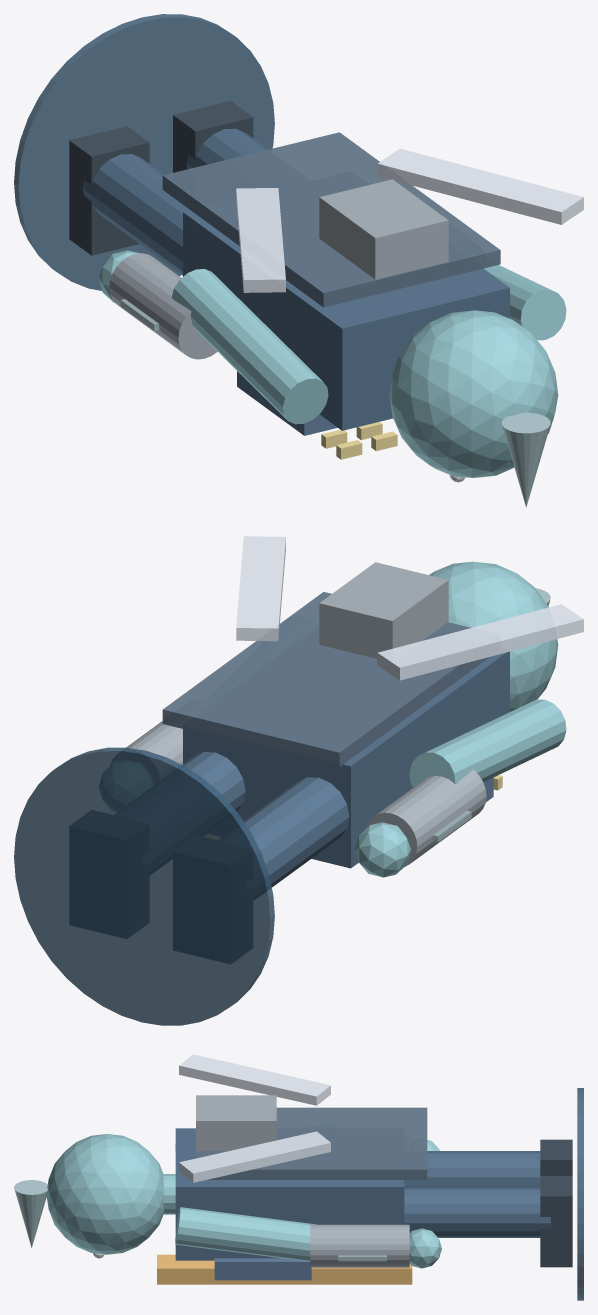
Rendered from SW_NPC_039_nima_cinderrig.glb.
The picture shows the model from 3 angles, top to bottom: view 1: azimuth 30°, elevation 25°; view 2: azimuth 150°, elevation 25°; view 3: azimuth 270°, elevation 25°; orthographic projection. The views are drawn at different scales.
Visible parts, largest first — view 1: round_base_plate, torso_uniform, head, storm_cloak, left_upper_arm, wingpack_core, left_leg, right_wing_rig, left_forearm_gauntlet, left_boot, left_wing_rig, right_upper_arm (+4 smaller); view 2: round_base_plate, storm_cloak, torso_uniform, wingpack_core, head, left_upper_arm, left_leg, left_wing_rig, left_forearm_gauntlet, right_wing_rig, left_hand, right_leg (+1 smaller); view 3: head, torso_uniform, storm_cloak, right_leg, right_upper_arm, left_leg, right_forearm_gauntlet, wingpack_core, rank_sash, right_wing_rig, left_wing_rig, right_boot (+7 smaller).
Part boxes in pixels (x1,y1,x2,y2): round_base_plate: (14, 14, 274, 290); torso_uniform: (183, 210, 509, 430); head: (389, 310, 558, 477); storm_cloak: (162, 132, 500, 307); left_upper_arm: (171, 269, 328, 424); wingpack_core: (319, 179, 448, 279); left_leg: (82, 154, 190, 275); right_wing_rig: (377, 148, 583, 224); left_forearm_gauntlet: (109, 253, 217, 359); left_boot: (69, 126, 149, 255); left_wing_rig: (236, 188, 285, 292); right_upper_arm: (484, 265, 566, 340); round_base_plate: (14, 747, 274, 1025); storm_cloak: (162, 592, 489, 766); torso_uniform: (183, 651, 509, 868); wingpack_core: (319, 562, 448, 658); head: (429, 561, 558, 711); left_upper_arm: (409, 699, 566, 787); left_leg: (243, 777, 349, 887); left_wing_rig: (377, 604, 583, 680); left_forearm_gauntlet: (366, 769, 486, 867); right_wing_rig: (236, 536, 285, 641); left_hand: (355, 822, 410, 877); right_leg: (182, 752, 245, 811); head: (46, 1134, 164, 1254); torso_uniform: (175, 1128, 404, 1260); storm_cloak: (196, 1107, 427, 1179); right_leg: (404, 1187, 550, 1237); right_upper_arm: (175, 1207, 316, 1261); left_leg: (404, 1151, 540, 1187); right_forearm_gauntlet: (310, 1224, 409, 1267); wingpack_core: (196, 1095, 276, 1150); rank_sash: (157, 1254, 412, 1284); right_wing_rig: (179, 1131, 330, 1182); left_wing_rig: (179, 1054, 330, 1105); right_boot: (540, 1176, 572, 1267).
Bounding box in the file's own units: 1.07 × 0.8064 × 2.16.
